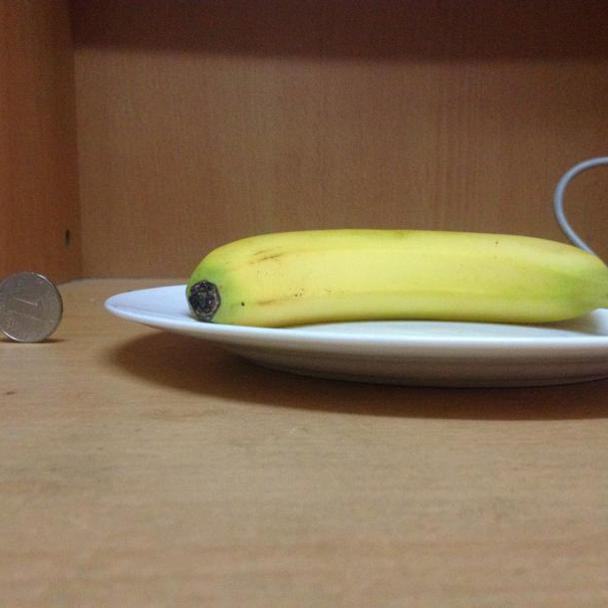banana: (185, 221, 606, 330)
